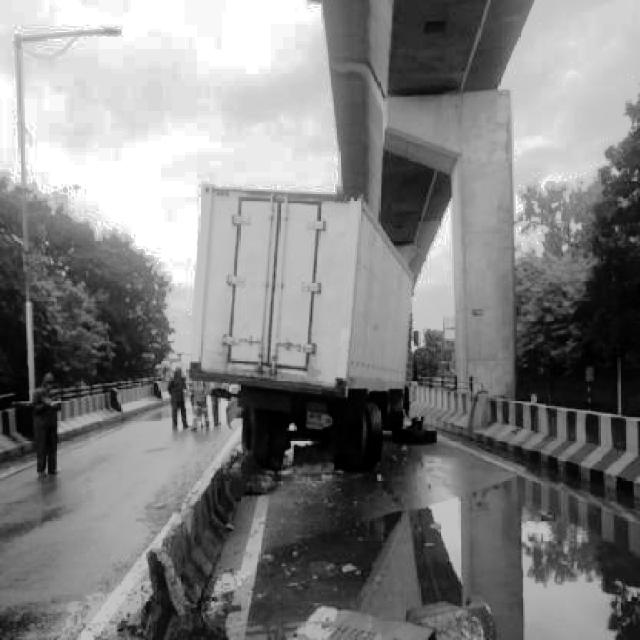HCV: (200, 182, 417, 450)
